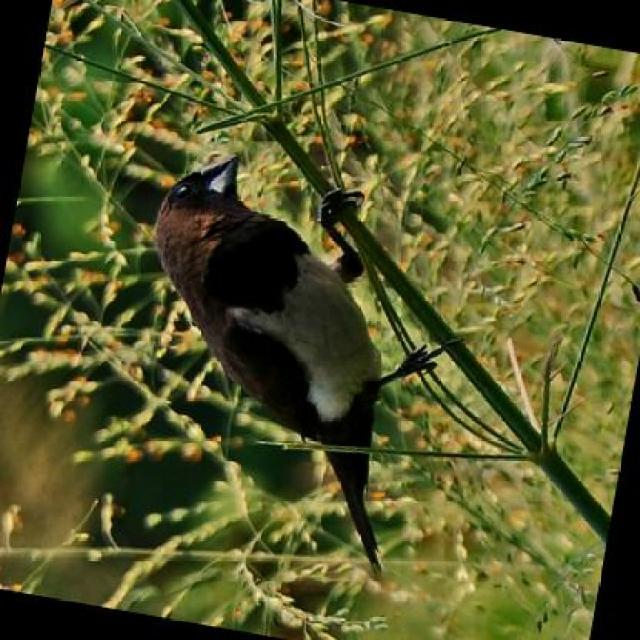Bird: (151, 147, 434, 574)
